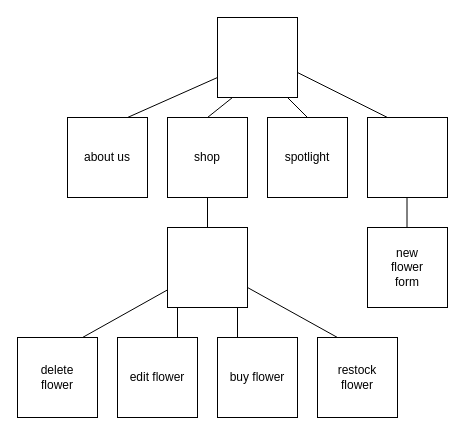
Image size: 465x435. Some labels were removed from this diagram. Here are the shapes that lost their labels. From the top down, the centre of each, then its label:
At [257,57]: "flower control".
At [407,157]: "add new".
At [207,267]: "flower detail".
